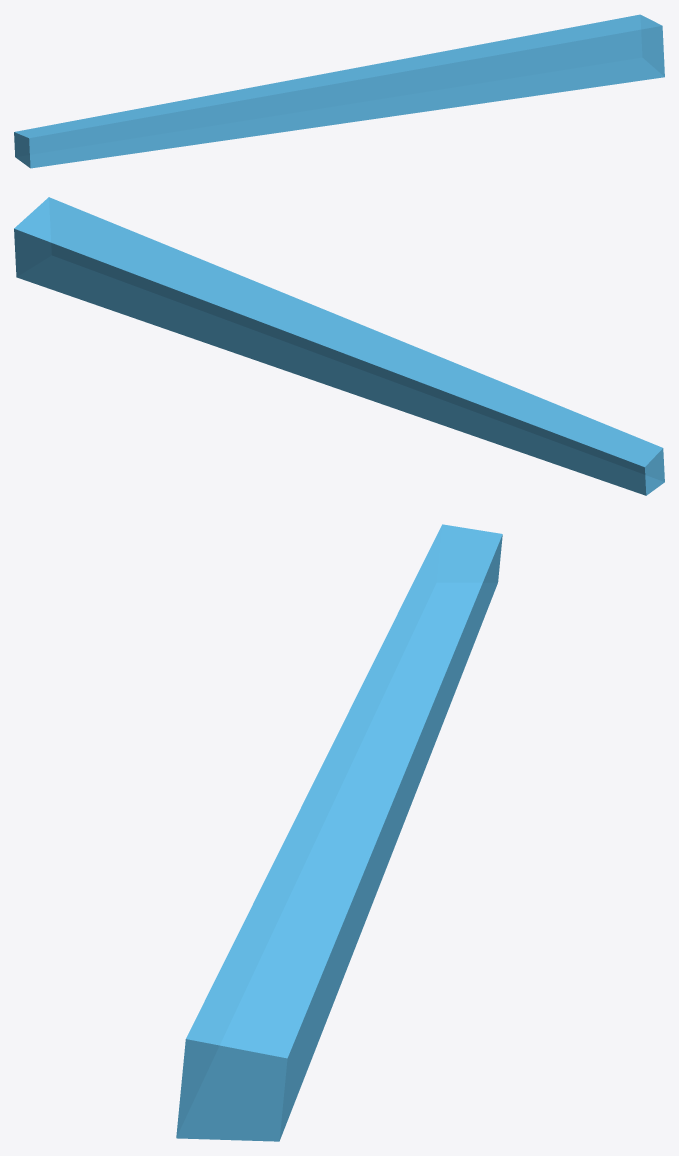
Rendered from Event_420107950_HErechit_61.fbx.
3 renders of one model, top to bottom at view 1: azimuth 30°, elevation 25°; view 2: azimuth 150°, elevation 25°; view 3: azimuth 270°, elevation 25°, orthographic. The views are drawn at different scales.
Parts seen in each view (by area): view 1: Model; view 2: Model; view 3: Model.
Boxes of the visible parts, x1,y1,x2,y2 form: Model: (14, 14, 664, 168); Model: (14, 197, 664, 495); Model: (176, 524, 502, 1141).
Bounding box in the file's own units: 7.81 × 0.6482 × 1.93.
